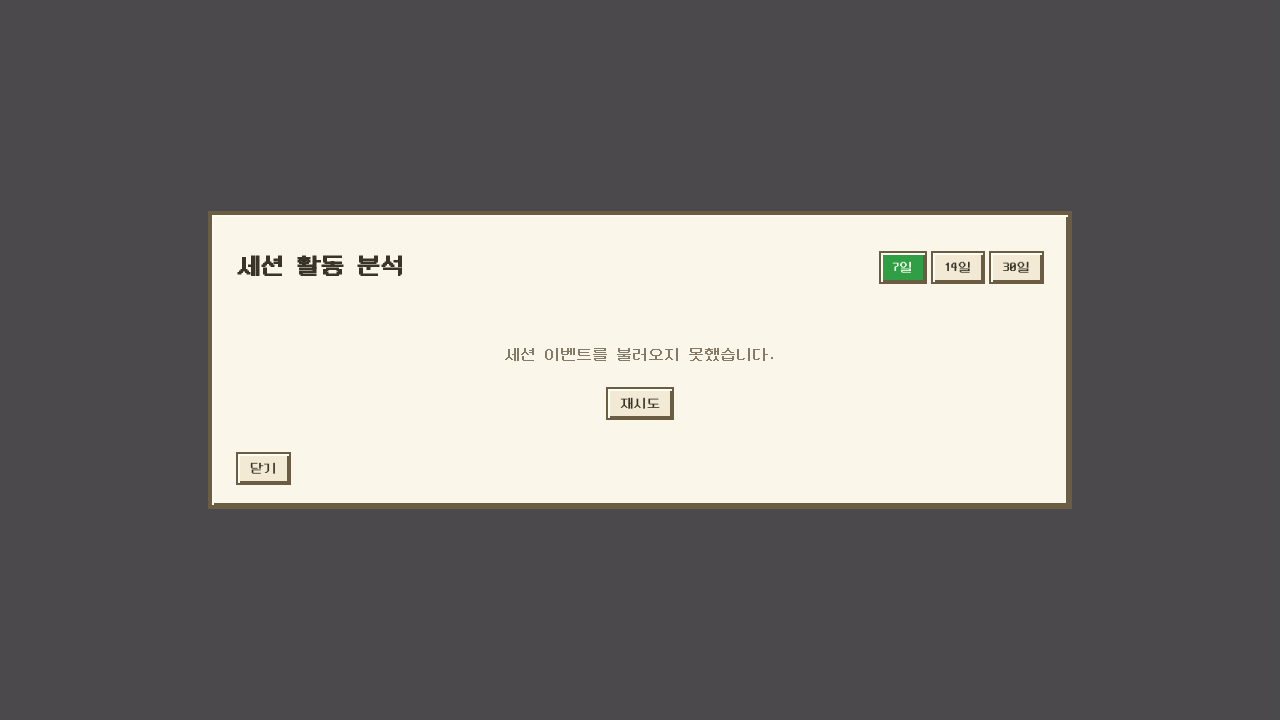
AnalyticsDialog › 로드 실패 시 오류 문구와 재시도 버튼을 보여주고, 재시도가 재조회한다
Expected: the text "세션 이벤트를 불러오지 못했습니다." is shown, [504,347,776,363]
Click the button "재시도" at [640, 403], box [606,387,674,420]
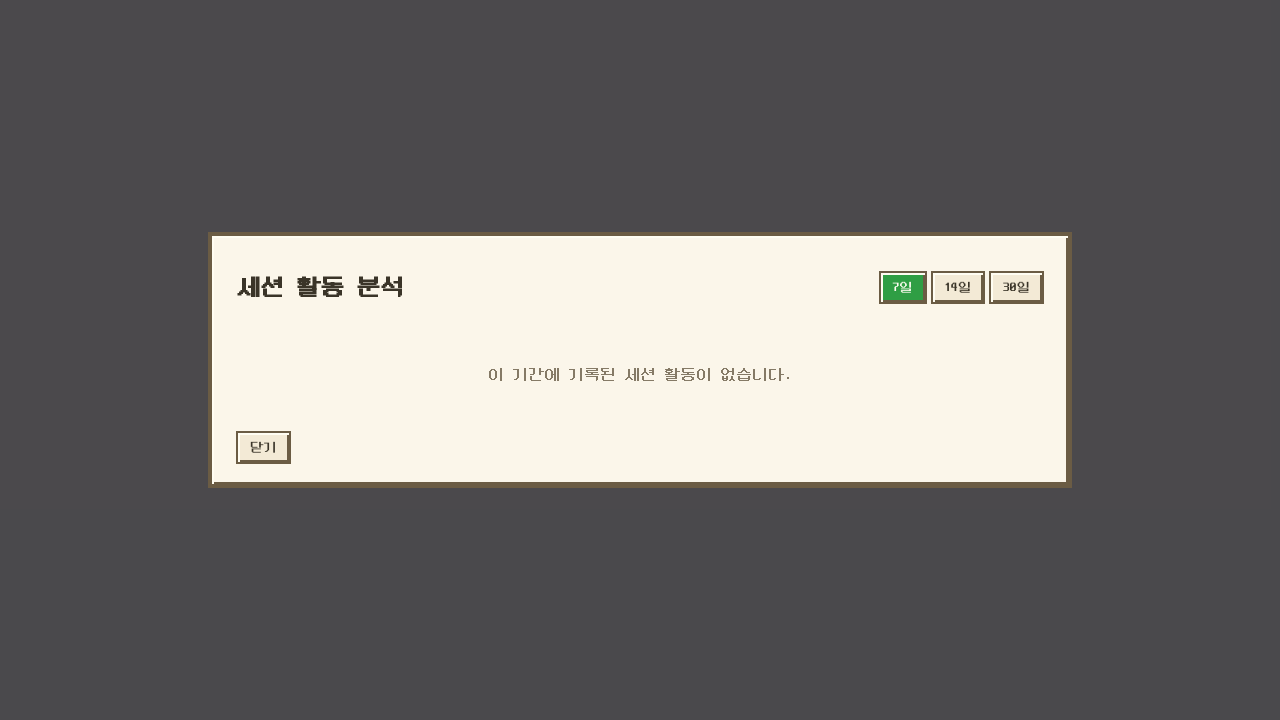
Now the text "이 기간에 기록된 세션 활동이 없습니다." is shown, box [488,367,792,383]
